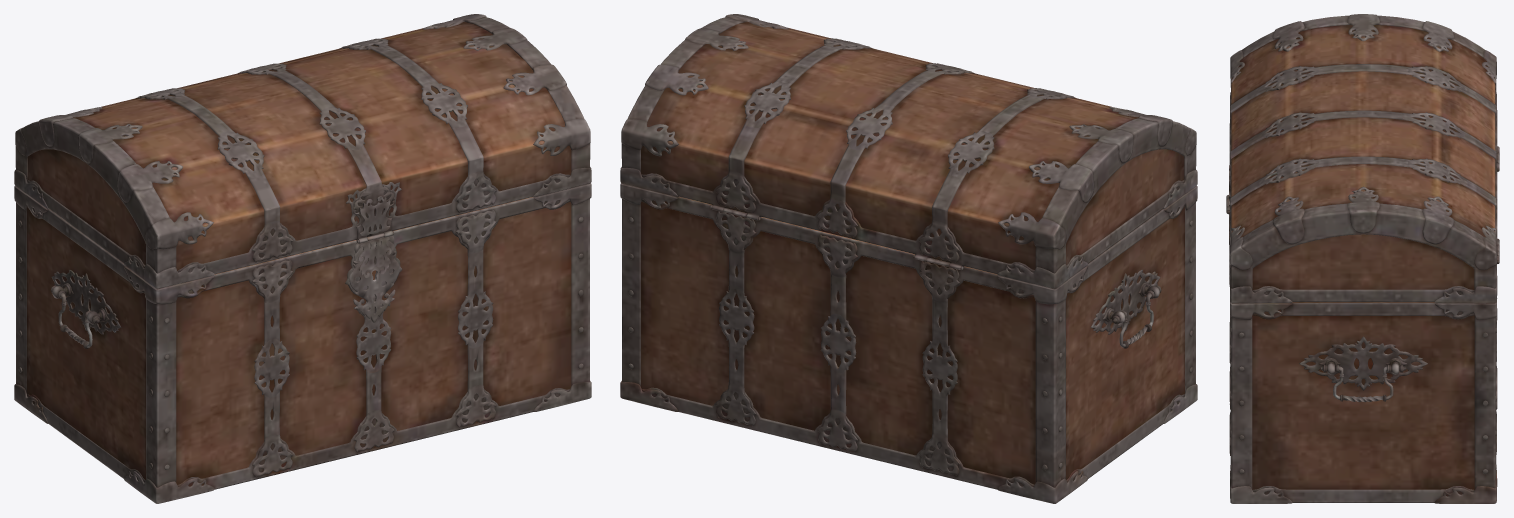
File: treasure_chest.glb
3 renders of one model, left to right at view 1: azimuth 30°, elevation 25°; view 2: azimuth 150°, elevation 25°; view 3: azimuth 270°, elevation 25°, orthographic. The views are drawn at different scales.
Parts seen in each view (by area): view 1: treasure_chest_bottom, treasure_chest_lid, treasure_chest_lock, treasure_chest_handle_left; view 2: treasure_chest_bottom, treasure_chest_lid; view 3: treasure_chest_lid, treasure_chest_bottom, treasure_chest_handle_right.
Boxes of the visible parts, x1,y1,x2,y2 form: treasure_chest_bottom: (14,183,591,503); treasure_chest_lid: (14,14,591,288); treasure_chest_lock: (349,233,399,322); treasure_chest_handle_left: (50,285,100,348); treasure_chest_bottom: (620,183,1197,503); treasure_chest_lid: (620,14,1197,288); treasure_chest_lid: (1226,14,1499,303); treasure_chest_bottom: (1229,152,1499,503); treasure_chest_handle_right: (1320,365,1406,402).
Size of the model in its own units: 0.959 by 0.6189 by 0.5229.
Materials: 1 (1 with a texture image).
